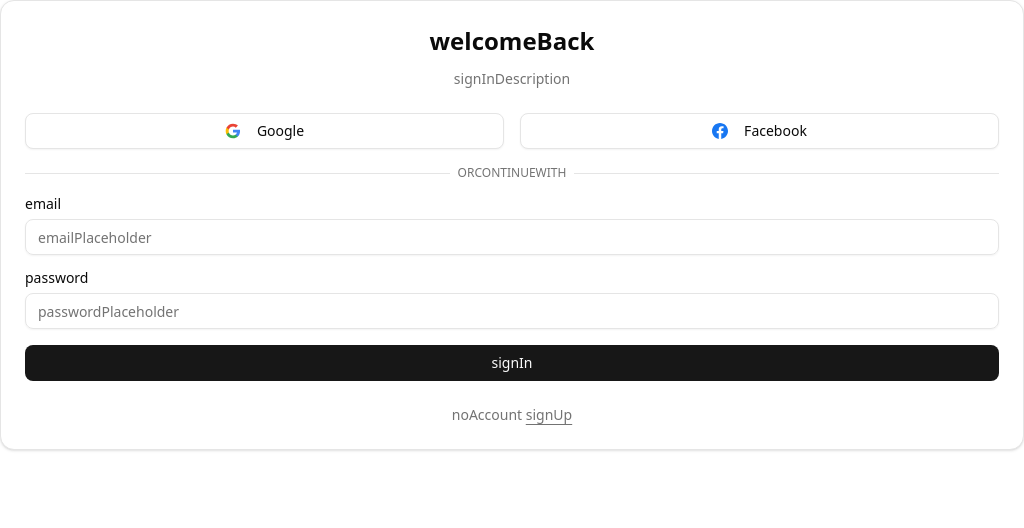
Test: SignInPage › handles lockout error
Type "test@example.com" into the field with test id "email-input". click: coordinates (512, 237)
box: [25, 219, 999, 255]
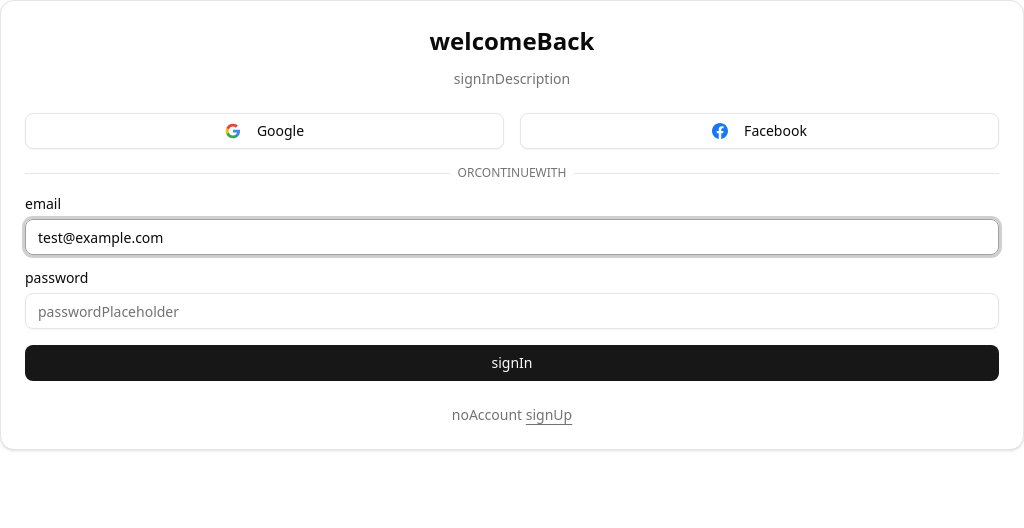
Type "password" into the password field with test id "password-input". click: coordinates (512, 311)
box: [25, 293, 999, 329]
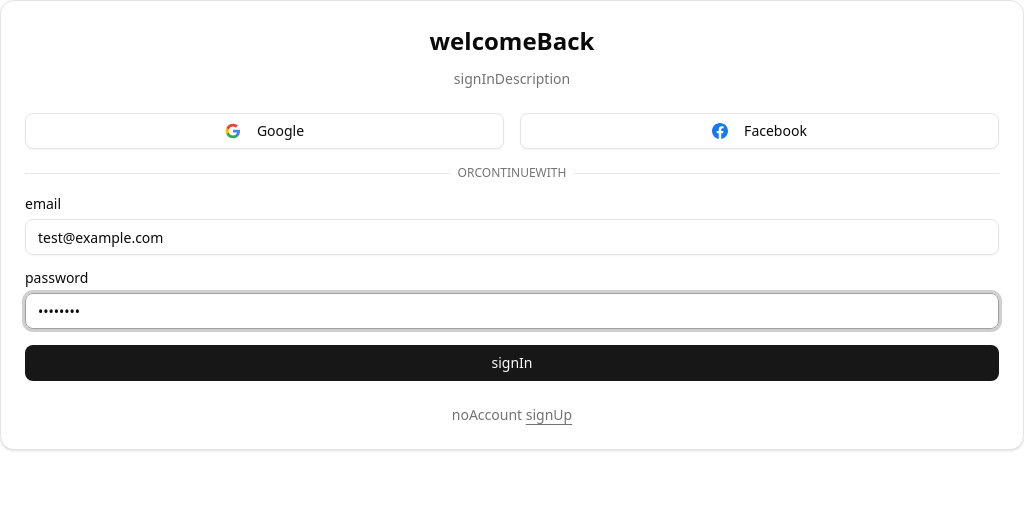
Click the button with test id "signin-submit". click: coordinates (512, 363)
box: [25, 345, 999, 381]
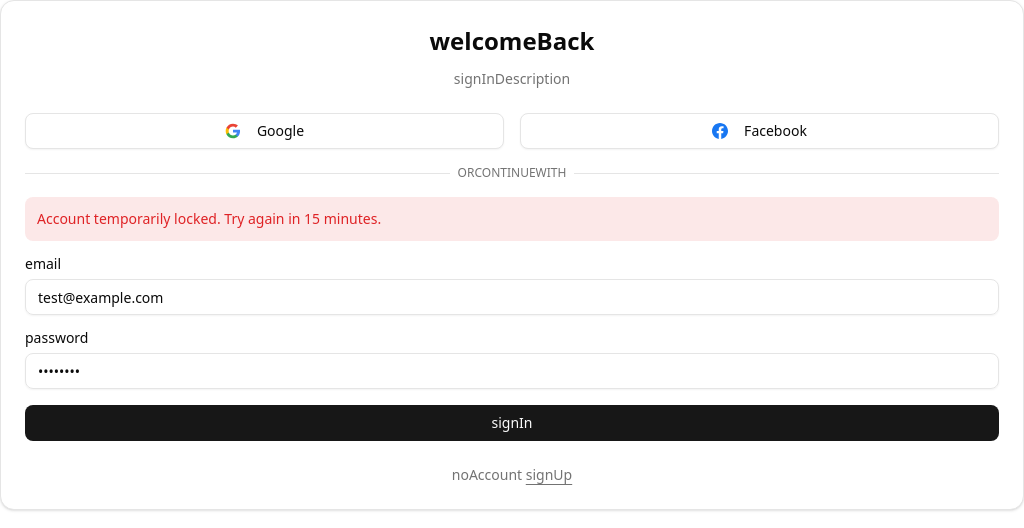
Result: the text with test id "signin-error" reads "Account temporarily locked. Try again in 15 minutes." at [37, 209, 381, 228]
